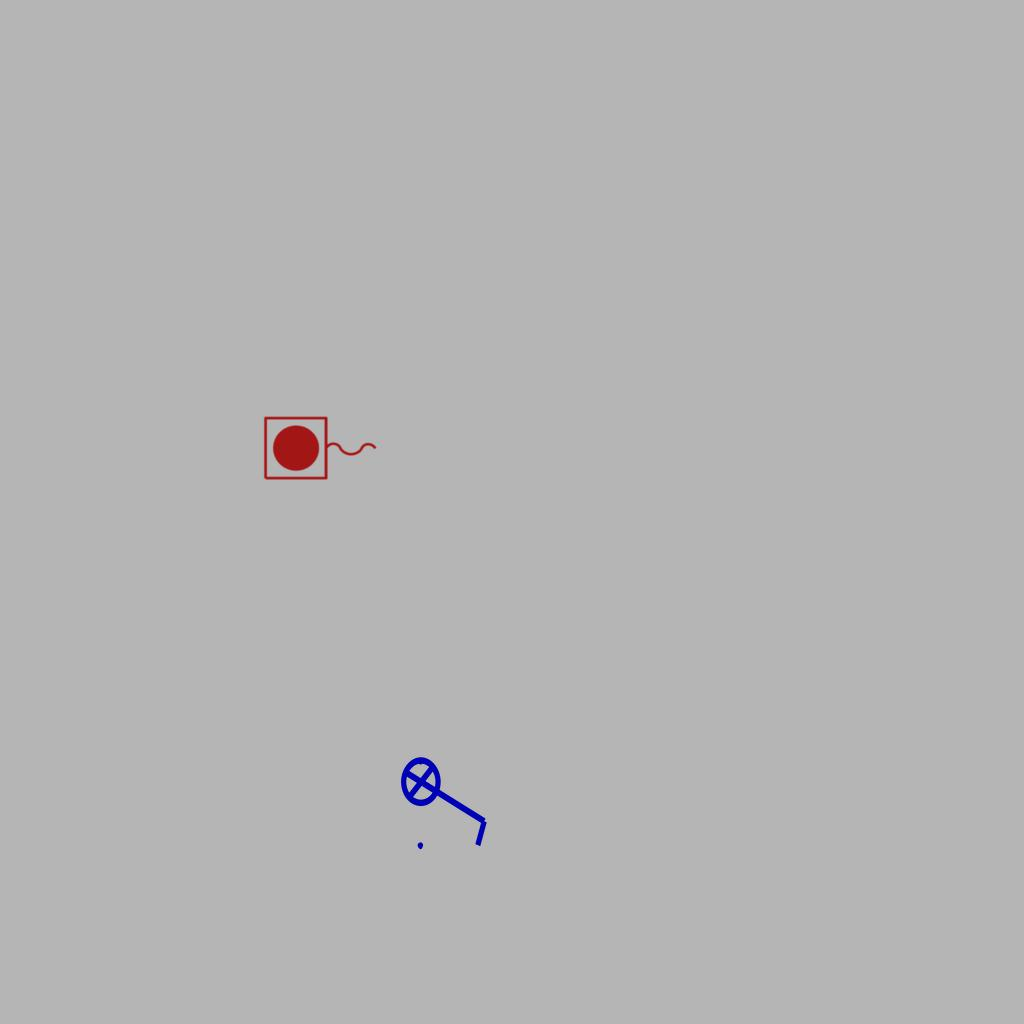Ausschalter_beleuchtet: (399, 743, 495, 855)
Zugtaster: (260, 413, 382, 485)
